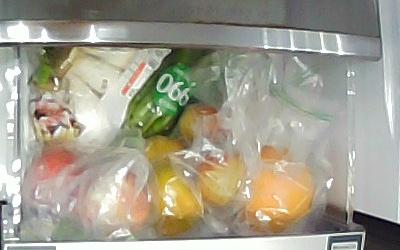apple_vinyl: (82, 168, 151, 230), (24, 146, 93, 205)
grapefruit_vinyl: (244, 145, 313, 234)
persimmon_vinyl: (152, 165, 203, 239), (139, 135, 187, 172)
prune_vinyl: (195, 149, 246, 209), (177, 105, 230, 151)
